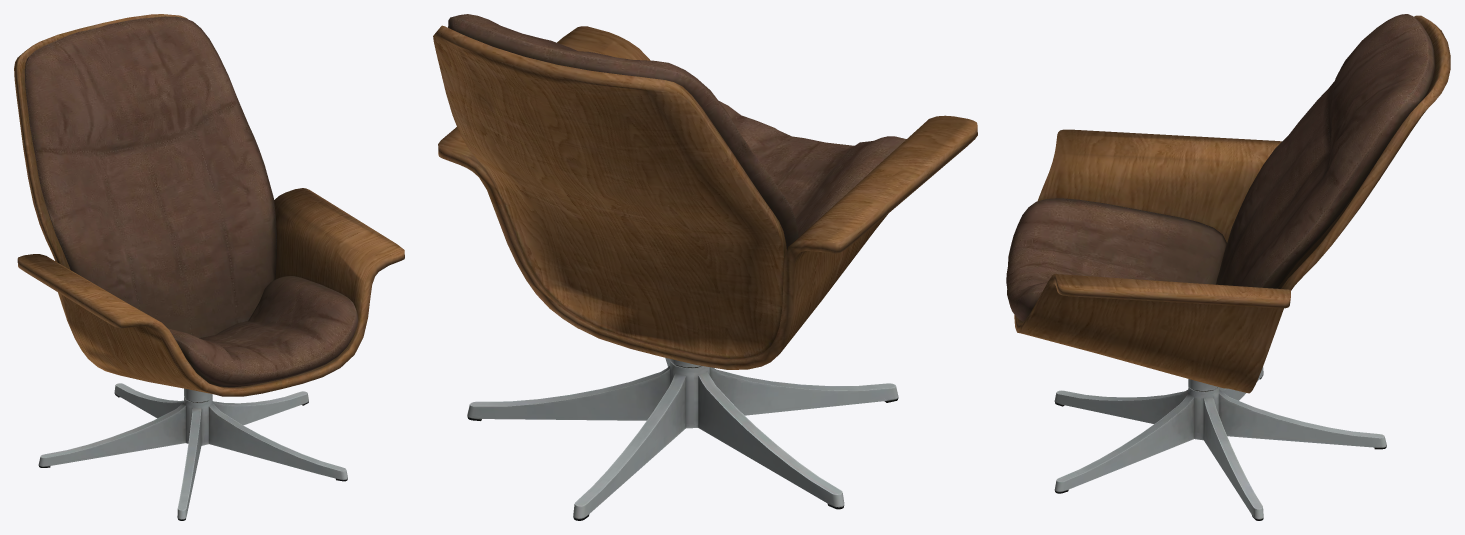
File: mid_century_lounge_chair.glb
3 views of the same model, side by side, from view 1: azimuth 30°, elevation 25°; view 2: azimuth 150°, elevation 25°; view 3: azimuth 270°, elevation 25° (orthographic). The views are drawn at different scales.
Visible parts, largest first — view 1: mid_century_lounge_chair; view 2: mid_century_lounge_chair; view 3: mid_century_lounge_chair.
Boxes of the visible parts, x1,y1,x2,y2 form: mid_century_lounge_chair: (14,14,404,520); mid_century_lounge_chair: (433,14,977,520); mid_century_lounge_chair: (1006,14,1450,520).
Bounding box in the file's own units: 1.01 × 1.17 × 1.19.
1 material, 1 textured.
